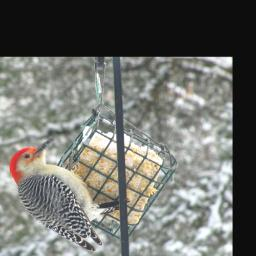Woodpecker: (9, 140, 124, 252)
